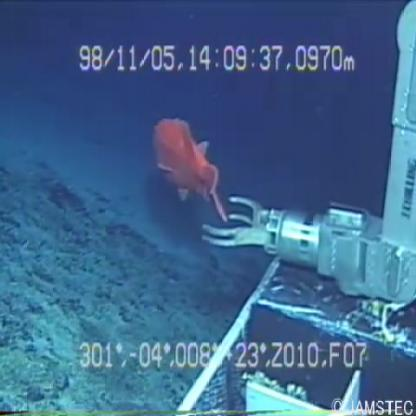Bio: (147, 110, 233, 228)
Rov: (180, 1, 415, 410)
